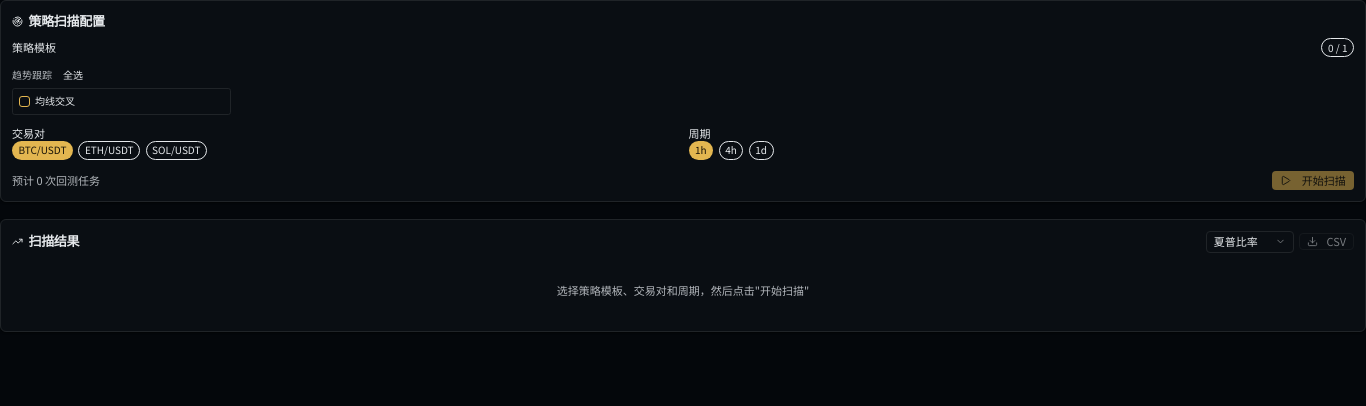
Test: 扫描期间不伪造结果 › 停止按钮真的停：点了之后不再发新的 POST，未完成标记为已取消而不是失败
Click the checkbox.
click(24, 101)  # box [18,96,30,107]
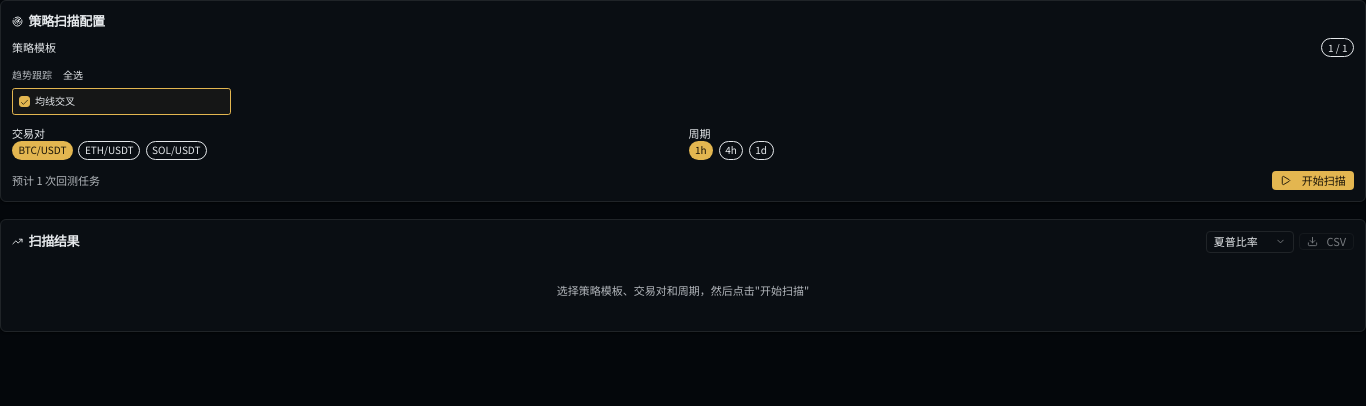
Click the button "开始扫描".
click(1313, 180)  # box [1272,171,1354,190]
Wait 2000 ms
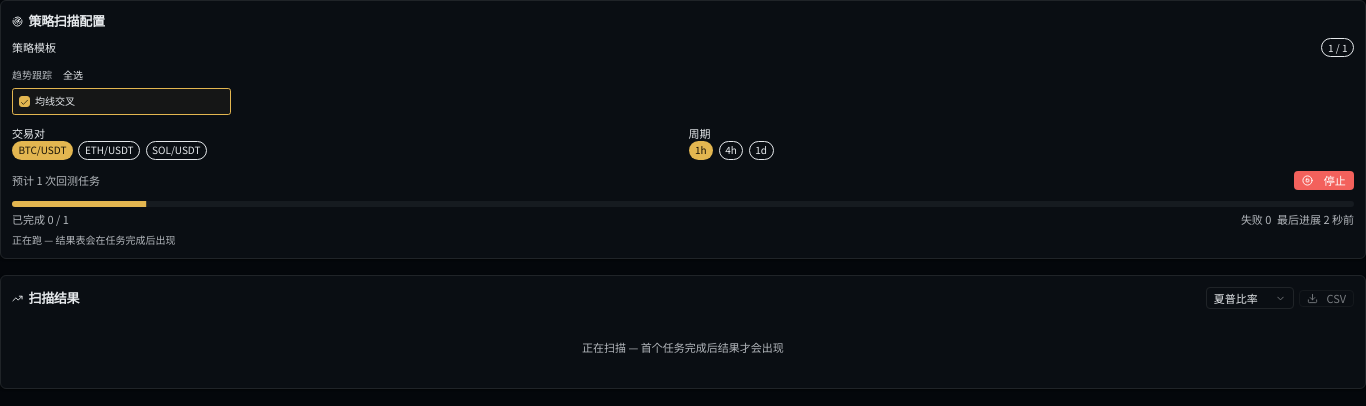
Click the button "停止".
click(1324, 180)  # box [1294,171,1354,190]
Wait 10000 ms
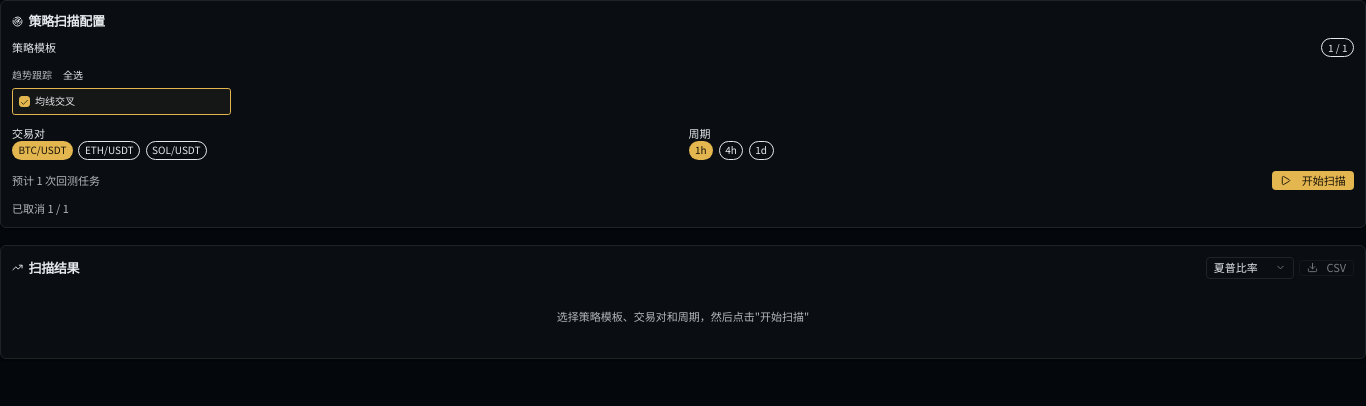
Check: the text "已取消 1 / 1" is shown, box [12,200,69,216]
